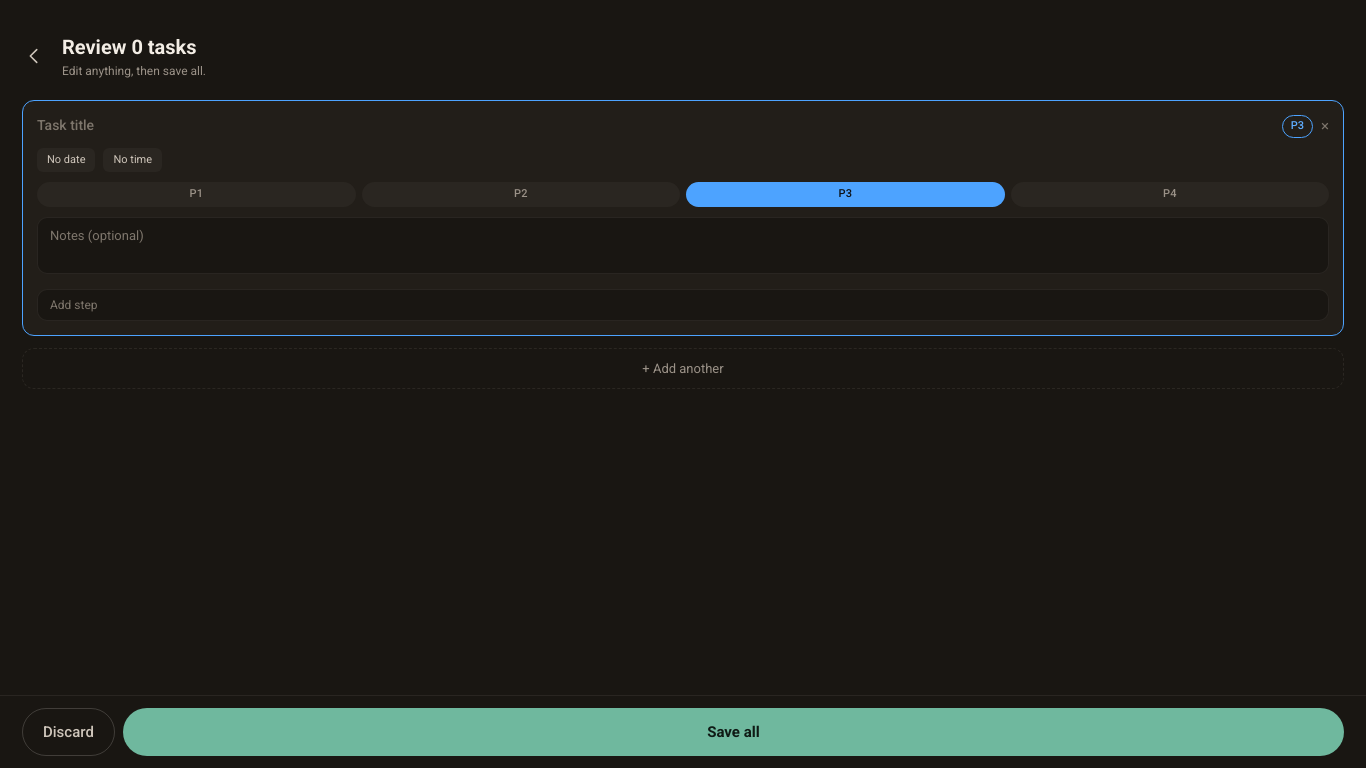
Test: ConfirmSheet › blocks save when every title is empty
What coordinates should you click on to do the following:
click the button "Save all"
I would click on:
 (733, 732)
Its box is [123,708,1344,756].
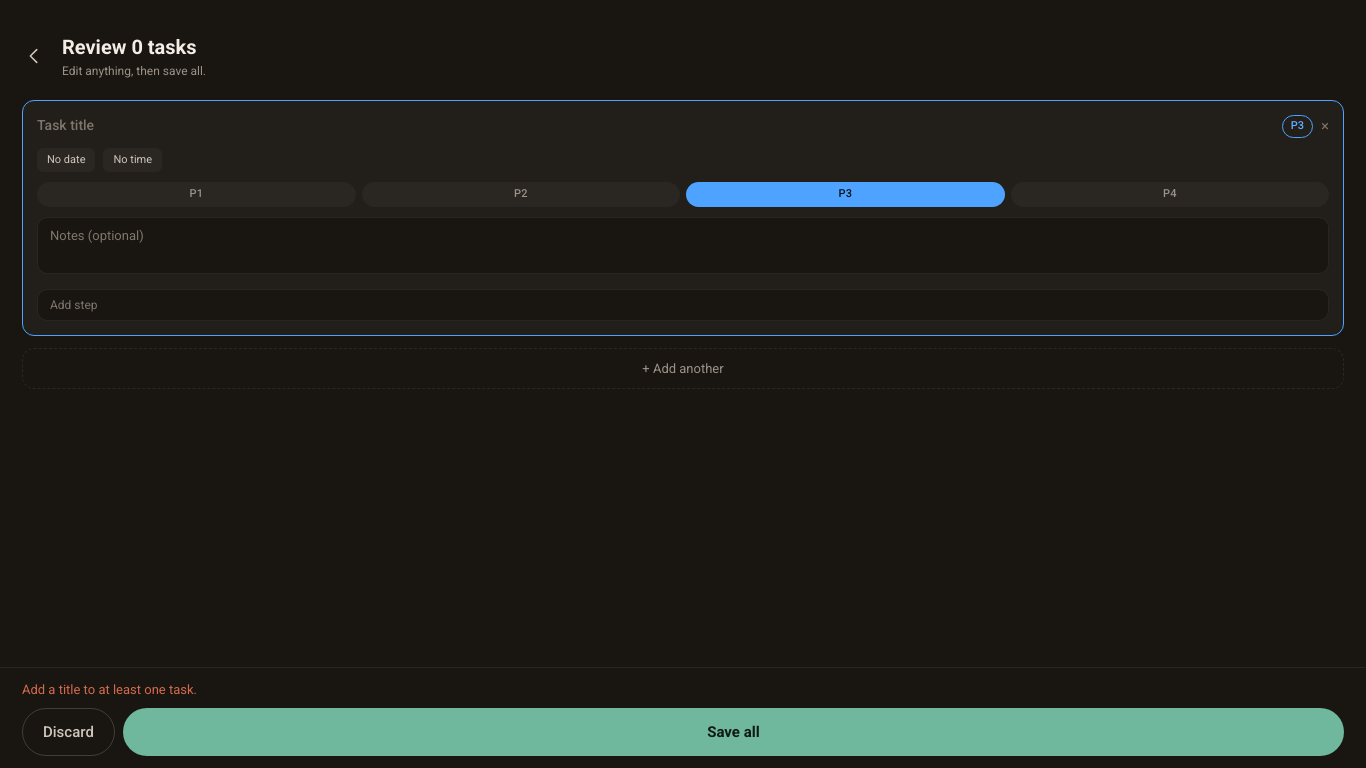
Result: the text "Add a title to at least one task." is shown at [22,682,197,697]
